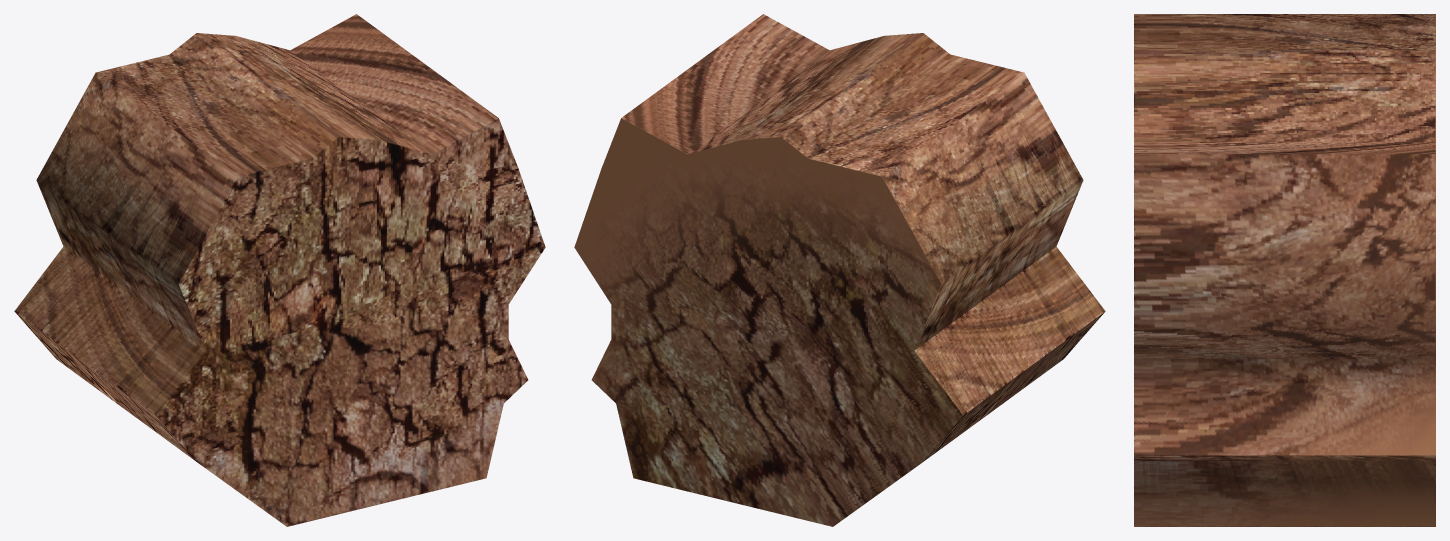
File: Boulder 1.fbx
3 renders of one model, left to right at view 1: azimuth 30°, elevation 25°; view 2: azimuth 150°, elevation 25°; view 3: azimuth 270°, elevation 25°, orthographic. The views are drawn at different scales.
Visible parts, largest first — view 1: node_id29; view 2: node_id29; view 3: node_id29.
Part boxes in pixels (x1,y1,x2,y2): node_id29: (14,14,545,526); node_id29: (574,14,1105,526); node_id29: (1134,14,1435,526).
Size of the model in its own units: 0.1941 by 0.1799 by 0.1229.
1 material, 1 textured.
